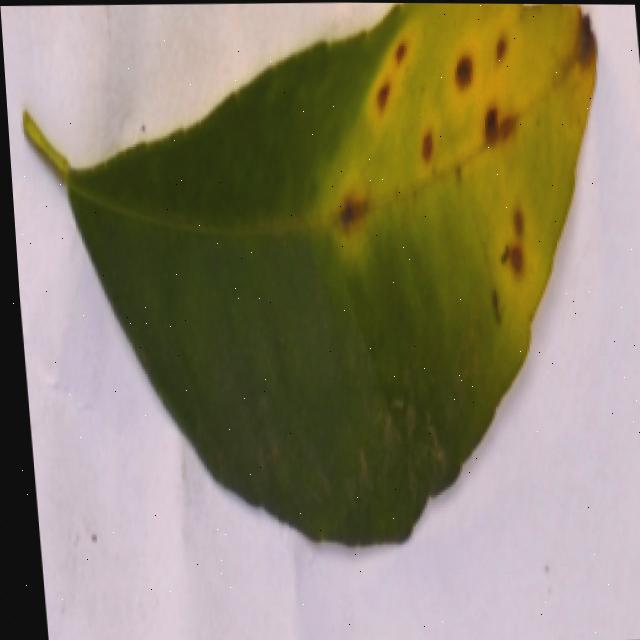canker: (28, 3, 596, 544), (304, 17, 581, 313)
